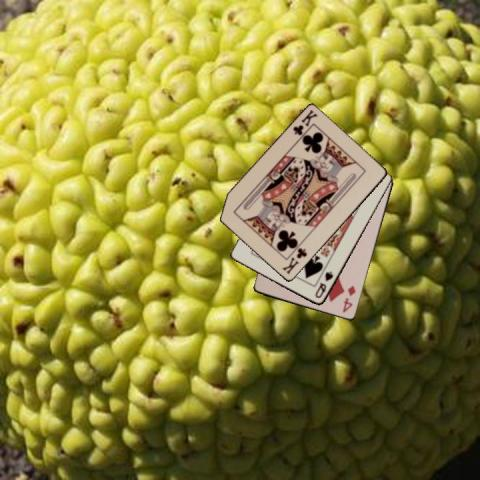4d: (340, 283, 358, 314)
Kc: (279, 245, 309, 275), (290, 107, 319, 138)
Qs: (312, 269, 335, 300)
